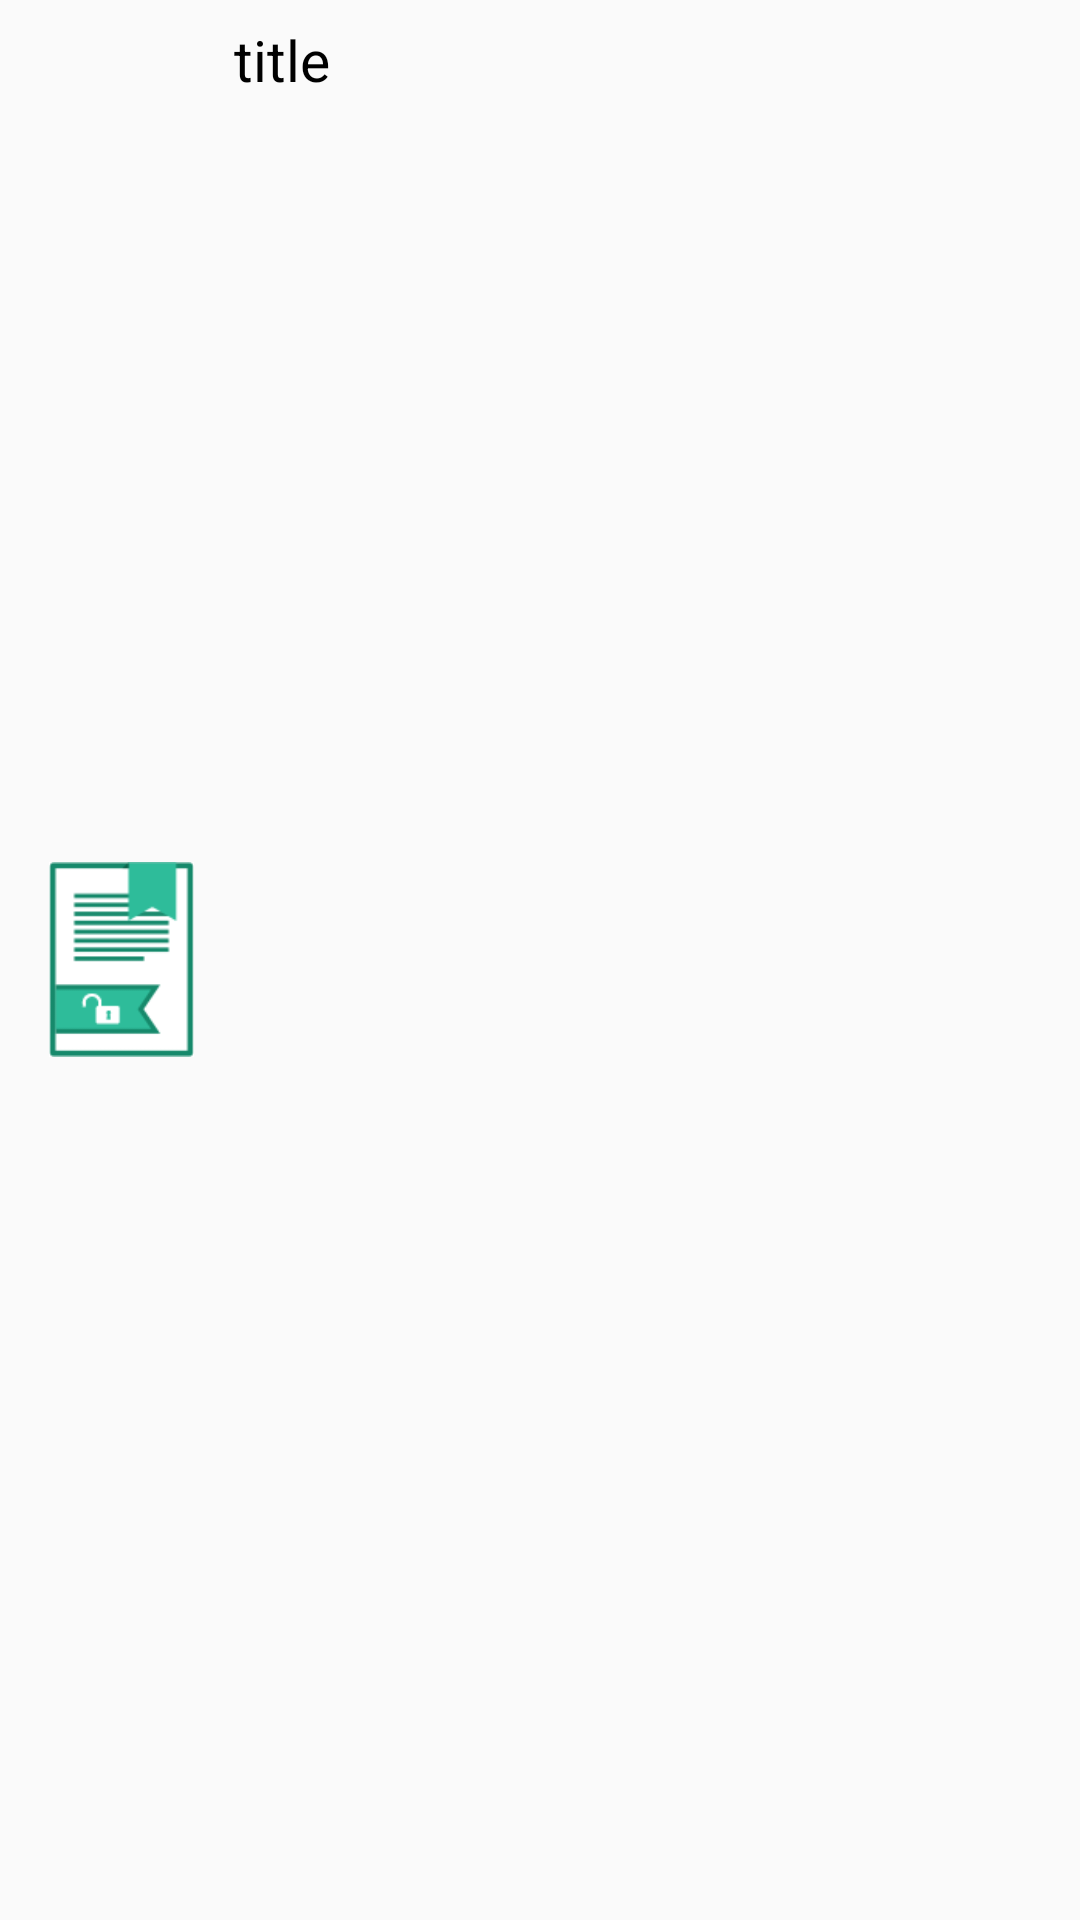

Where to tap for icons on this 1080 x 1920 app screen, as (x=x, y=y):
doc: (x=121, y=959)
